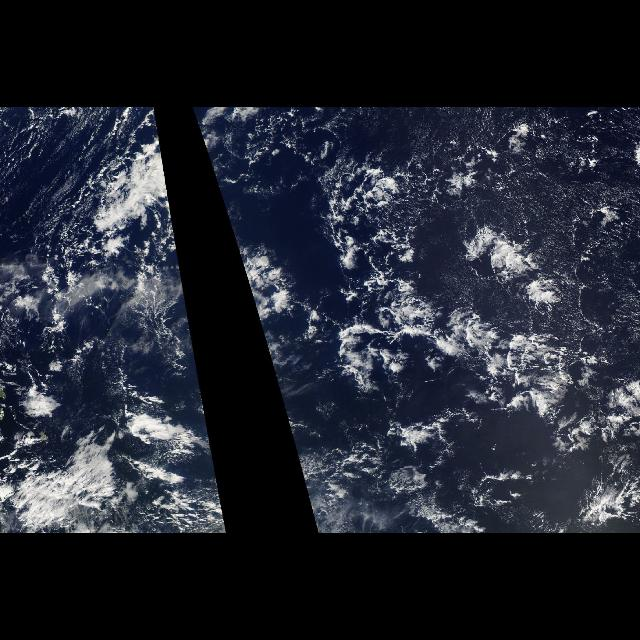Sugar: (428, 108, 640, 372)
